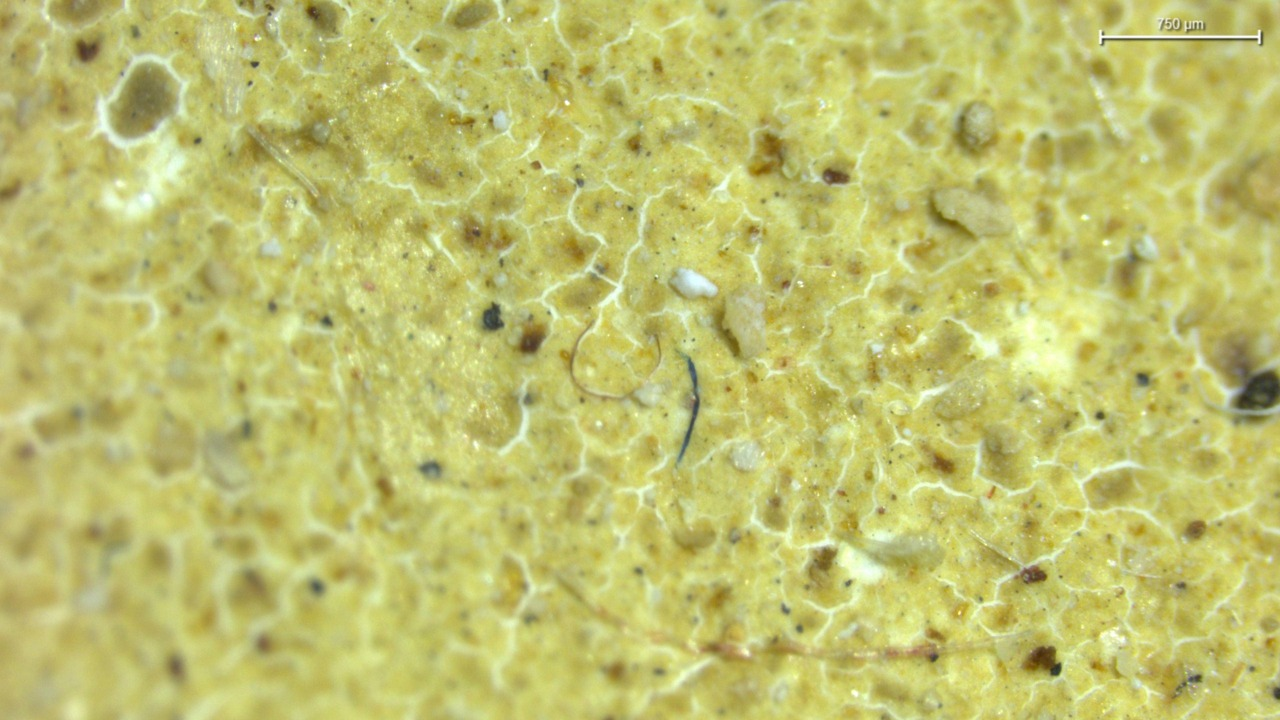microplastic_fragment: (932, 188, 1012, 236), (723, 285, 766, 358), (670, 268, 718, 299)
